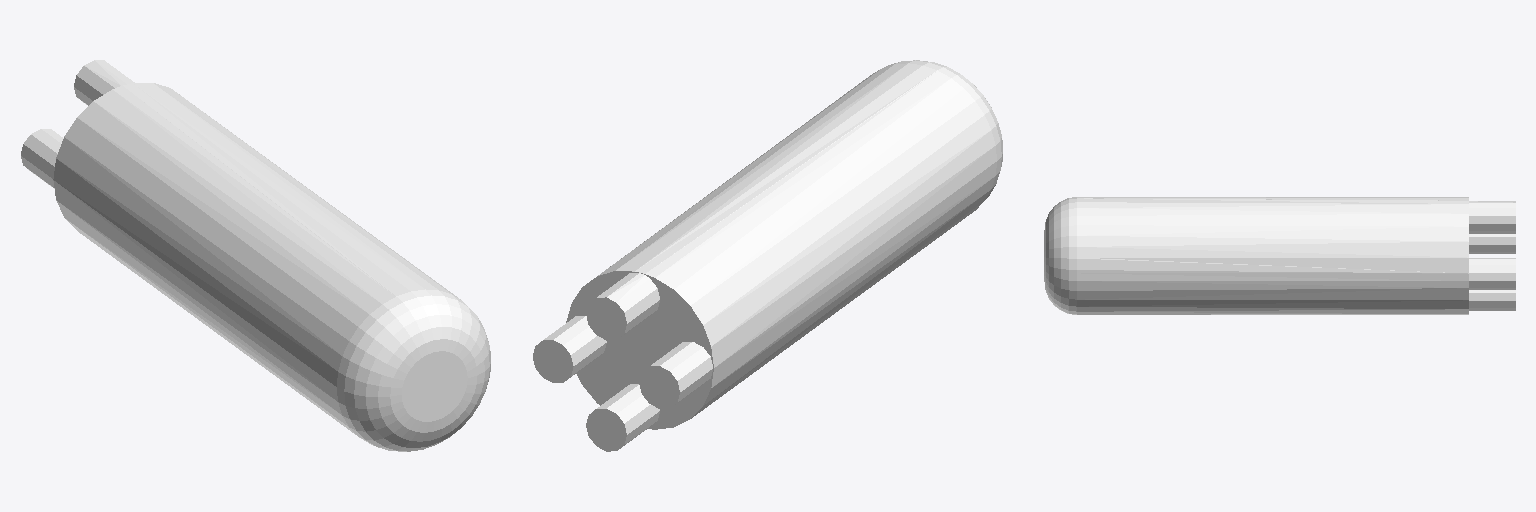
URDF robot description (T1302):
<robot
  name="T1302">
  <link
    name="T1302">
    <inertial>
      <origin
        xyz="3.0268E-05 -3.0578 1.65940000001872E-05"
        rpy="0 0 0" />
      <mass
        value="16697" />
      <inertia
        ixx="64278.179451061"
        ixy="1.72229236231047"
        ixz="-8.38639528253089E-06"
        iyy="6721.56867001197"
        iyz="-0.94422185941401"
        izz="64279.0000121281" />
    </inertial>
    <visual>
      <origin
        xyz="0 0 0"
        rpy="1.5707963267949 0 0" />
      <geometry>
        <mesh
          filename="package://T1302/meshes/T1302.STL" />
      </geometry>
      <material
        name="">
        <color
          rgba="1 1 1 1" />
      </material>
    </visual>
    <collision>
      <origin
        xyz="0 0 0"
        rpy="1.5707963267949 0 0" />
      <geometry>
        <mesh
          filename="package://T1302/meshes/T1302.STL" />
      </geometry>
    </collision>
  </link>
</robot>

--- What the picture shows (computed from the rendered views, not written in the file) ---
3 views of the same robot in one strip: view 1: azimuth 30°, elevation 25°; view 2: azimuth 150°, elevation 25°; view 3: azimuth 270°, elevation 25° (orthographic).
Robot: T1302 — 1 links, 0 joints (none); root link T1302; default pose: all joints at 0.
Links seen in each view (by area): view 1: T1302; view 2: T1302; view 3: T1302.
Boxes of the visible links, x1,y1,x2,y2 form: T1302: (21, 60, 490, 451); T1302: (533, 60, 1002, 451); T1302: (1044, 197, 1515, 314).
Bounding box of the posed robot: 1.8 × 7.15 × 1.8 m (x, y, z).
Meshes: 1 distinct files referenced, 1 mesh visuals loaded (1 binary STL).